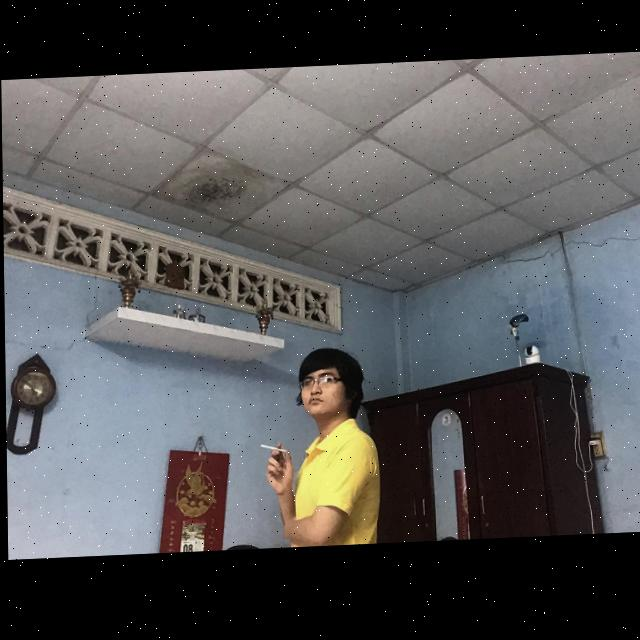cigarette: (259, 446, 284, 456)
